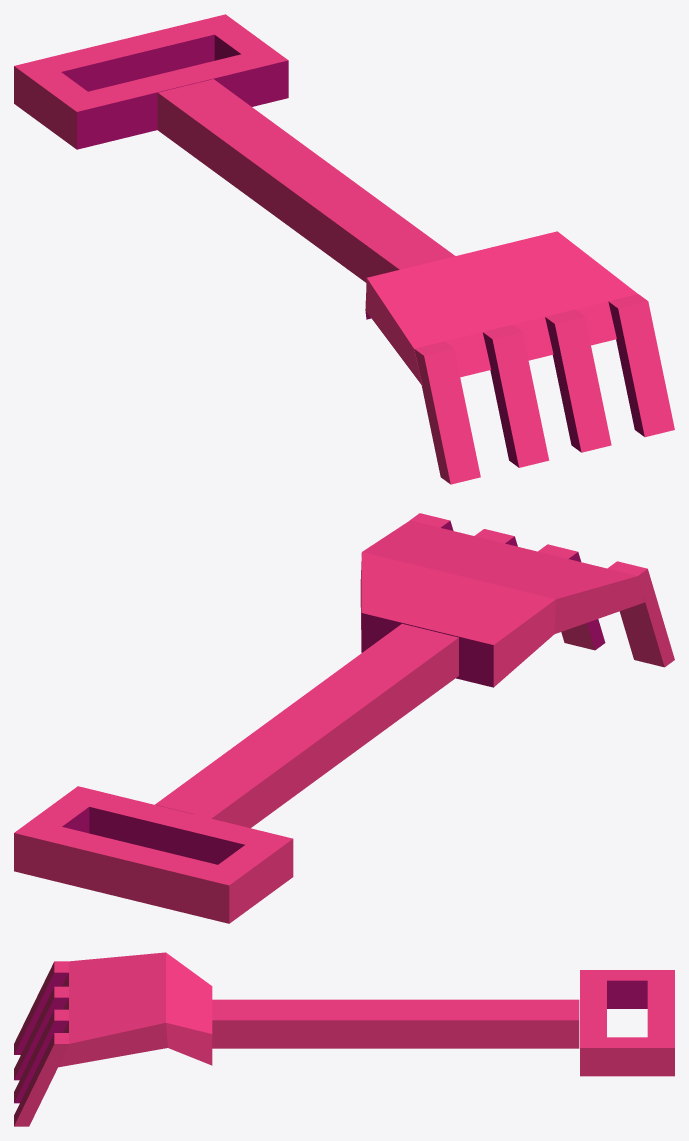
Rendered from Toy_Rake_01.FBX.
3 views of the same model, one above another, from view 1: azimuth 30°, elevation 25°; view 2: azimuth 150°, elevation 25°; view 3: azimuth 270°, elevation 25° (orthographic). The views are drawn at different scales.
Parts seen in each view (by area): view 1: Toy_Rake_01; view 2: Toy_Rake_01; view 3: Toy_Rake_01.
Part boxes in pixels (x1,y1,x2,y2): Toy_Rake_01: [14, 14, 674, 484]; Toy_Rake_01: [14, 513, 674, 923]; Toy_Rake_01: [14, 952, 674, 1126].
Size of the model in its own units: 0.1559 by 0.5266 by 0.0858.
